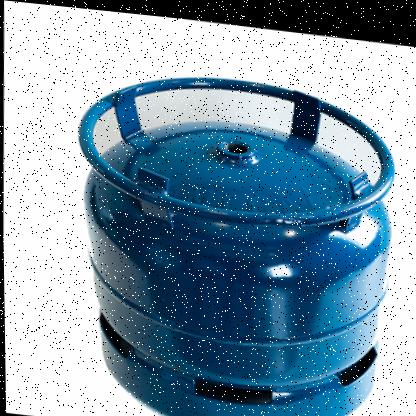gas-tank: (34, 39, 415, 415)
